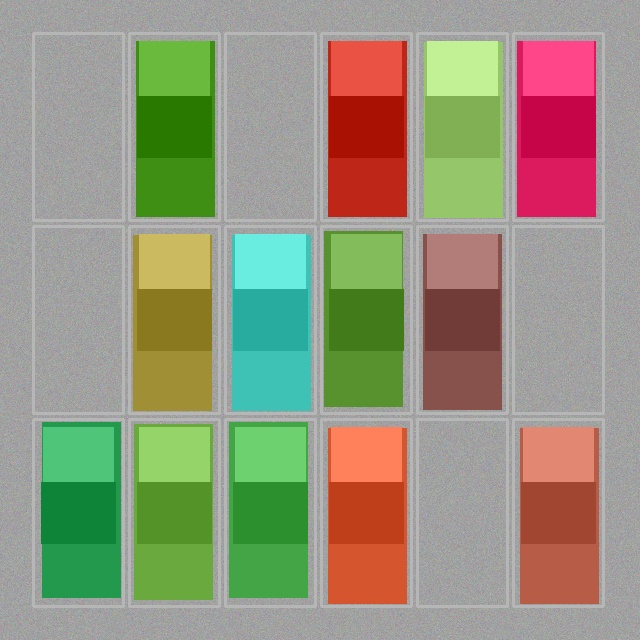space-empty: (35, 35, 121, 218), (227, 35, 313, 218), (35, 228, 121, 411), (515, 228, 601, 411), (419, 421, 505, 604)
space-occupied: (131, 35, 217, 218), (323, 35, 409, 218), (419, 35, 505, 218), (515, 35, 601, 218), (131, 228, 217, 411), (227, 228, 313, 411), (323, 228, 409, 411), (419, 228, 505, 411), (35, 421, 121, 604), (131, 421, 217, 604), (227, 421, 313, 604), (323, 421, 409, 604), (515, 421, 601, 604)
